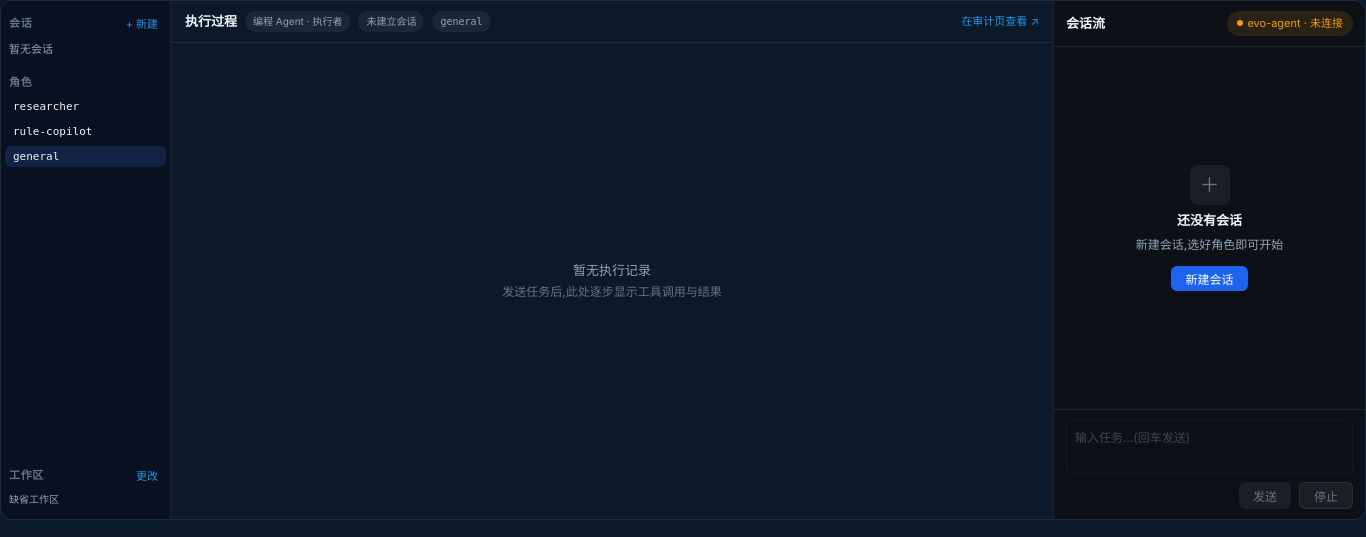
Test: AgentWorkspace — 批 2:审批门控与协议字段 › rewind 回执 actual_version:版本指针按服务端 Fact 版本修正
The width and height of the screenshot is (1366, 537).
Click the button "新建会话" at point(1210, 278), box [1172, 266, 1248, 291]
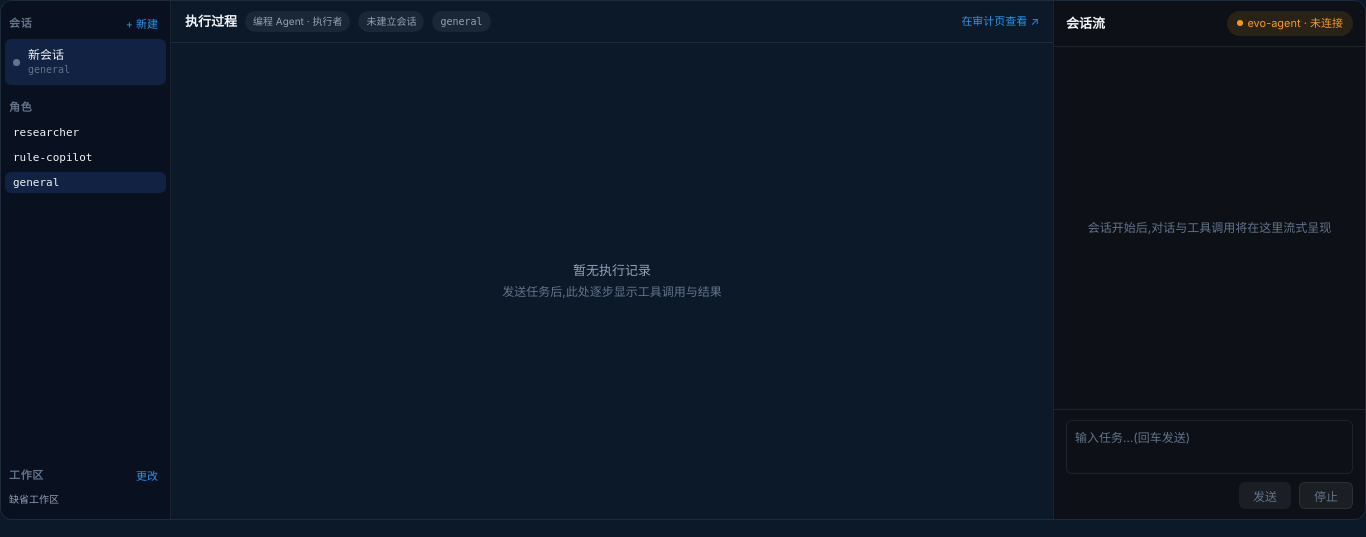
Type "任务" into the text box with placeholder "输入任务…(回车发送)" at point(1210, 447), box [1066, 420, 1353, 474]
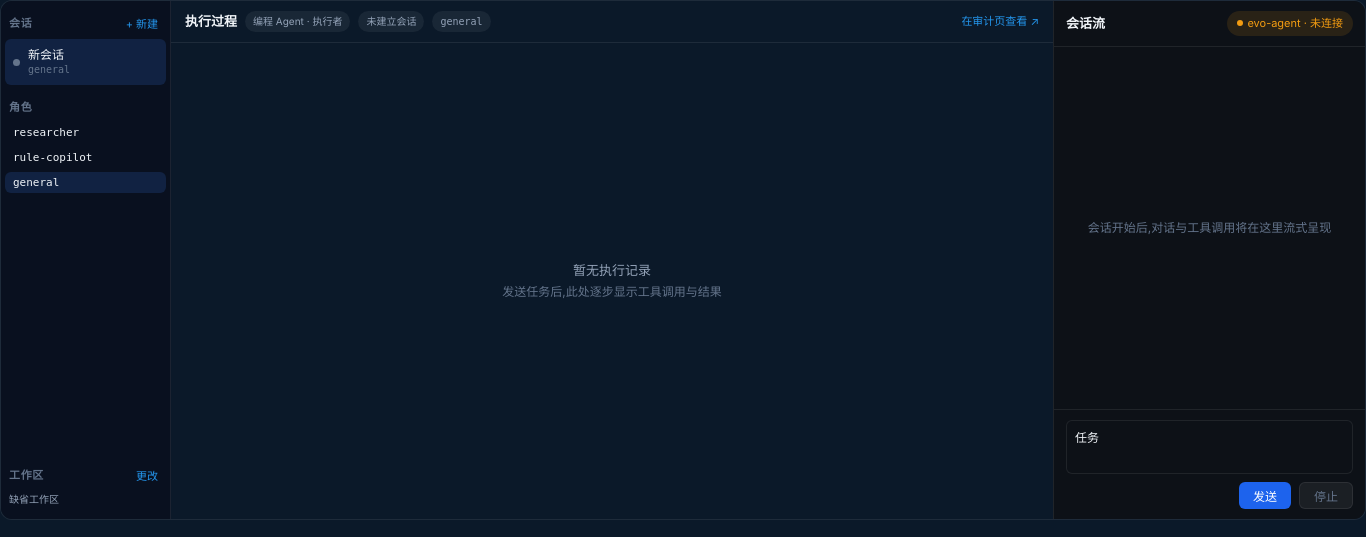
Click the button "发送" at point(1265, 496), box [1239, 482, 1291, 509]
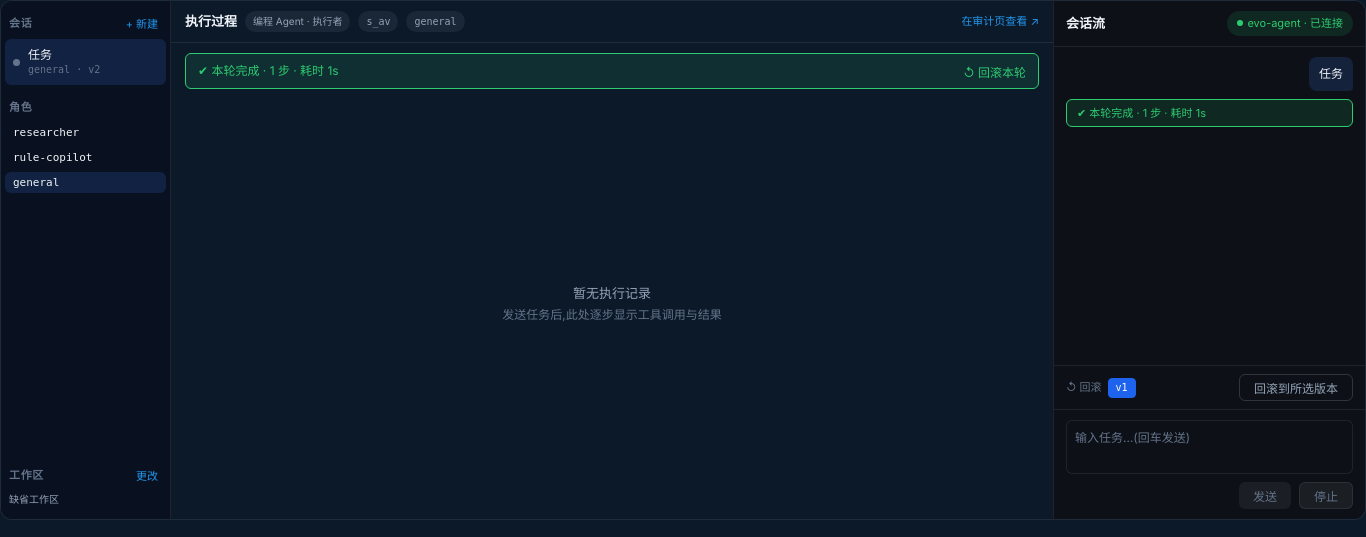
Click the button with class "btn-rw" at point(1296, 388), box [1239, 374, 1353, 401]
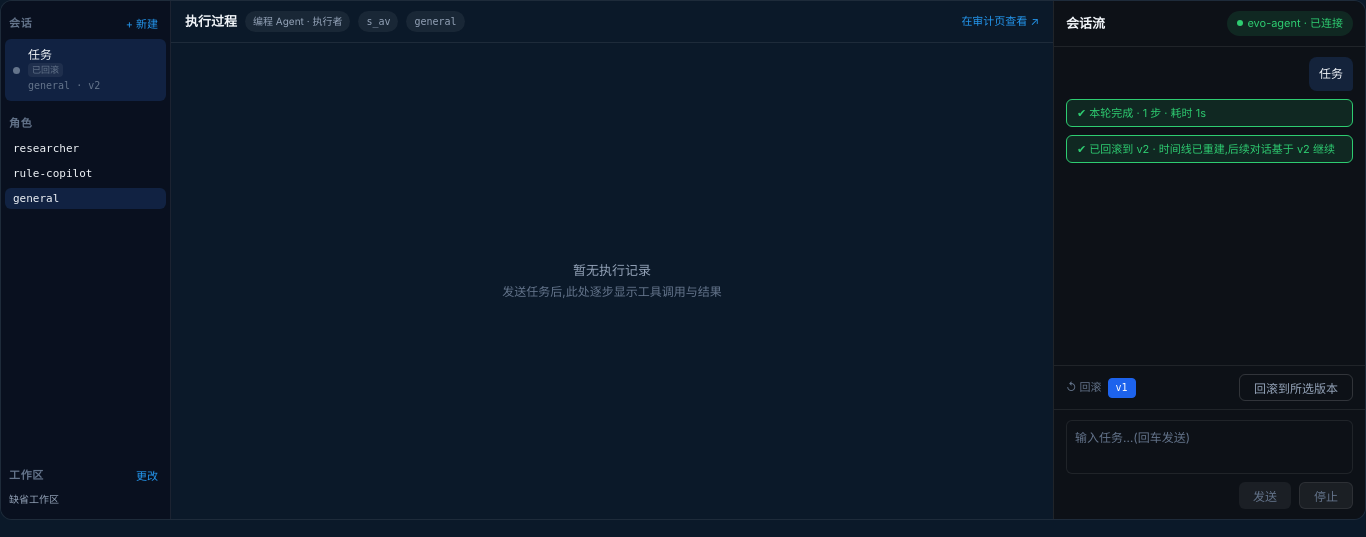
Expected: the text "general · v2" is shown, [28, 79, 100, 93]
Expected: the text "已回滚" is shown, [28, 63, 63, 77]
